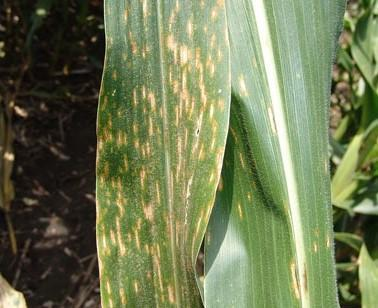Corn_Common_Rust: (87, 2, 216, 308), (205, 8, 264, 143), (225, 186, 268, 231), (282, 253, 314, 308), (303, 224, 339, 260), (256, 99, 282, 138), (291, 66, 308, 122), (230, 155, 257, 187)
